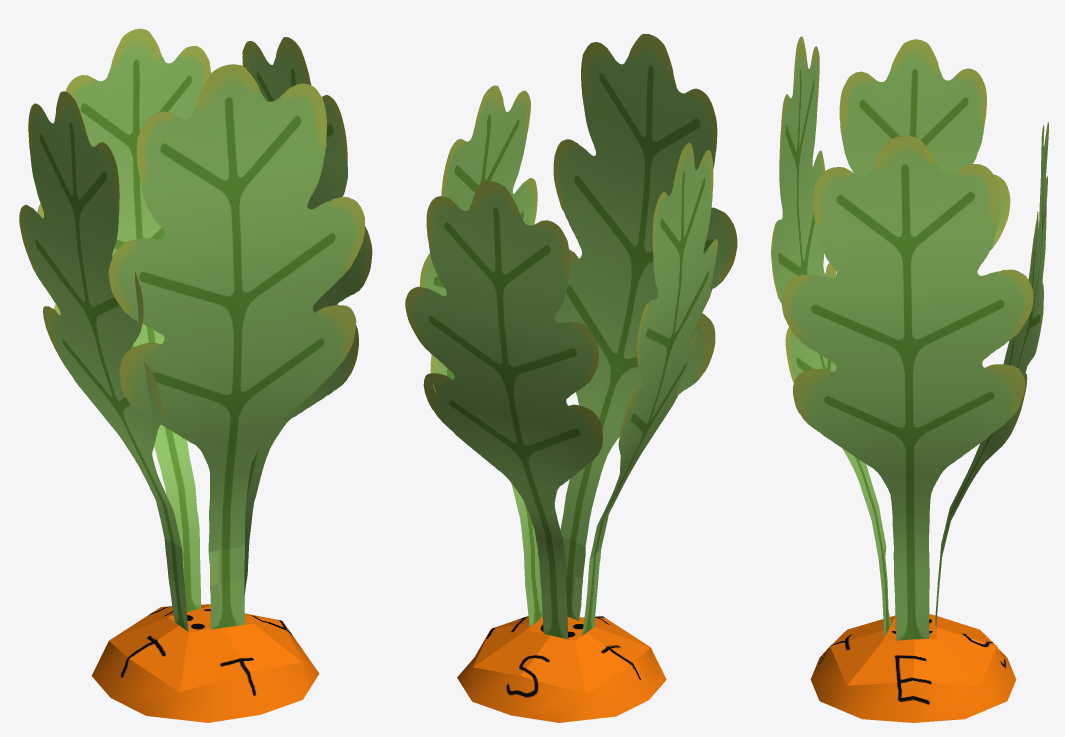
The model's file is teen_carrot.fbx.
3 views of the same model, side by side, from view 1: azimuth 30°, elevation 25°; view 2: azimuth 150°, elevation 25°; view 3: azimuth 270°, elevation 25° (orthographic). The views are drawn at different scales.
Parts seen in each view (by area): view 1: Teen_carrot; view 2: Teen_carrot; view 3: Teen_carrot.
Boxes of the visible parts, <box> form: Teen_carrot: <box>19,28,372,722</box>; Teen_carrot: <box>405,34,737,722</box>; Teen_carrot: <box>771,36,1048,722</box>.
Bounding box in the file's own units: 68.99 × 175 × 70.9.
1 material, 1 textured.
